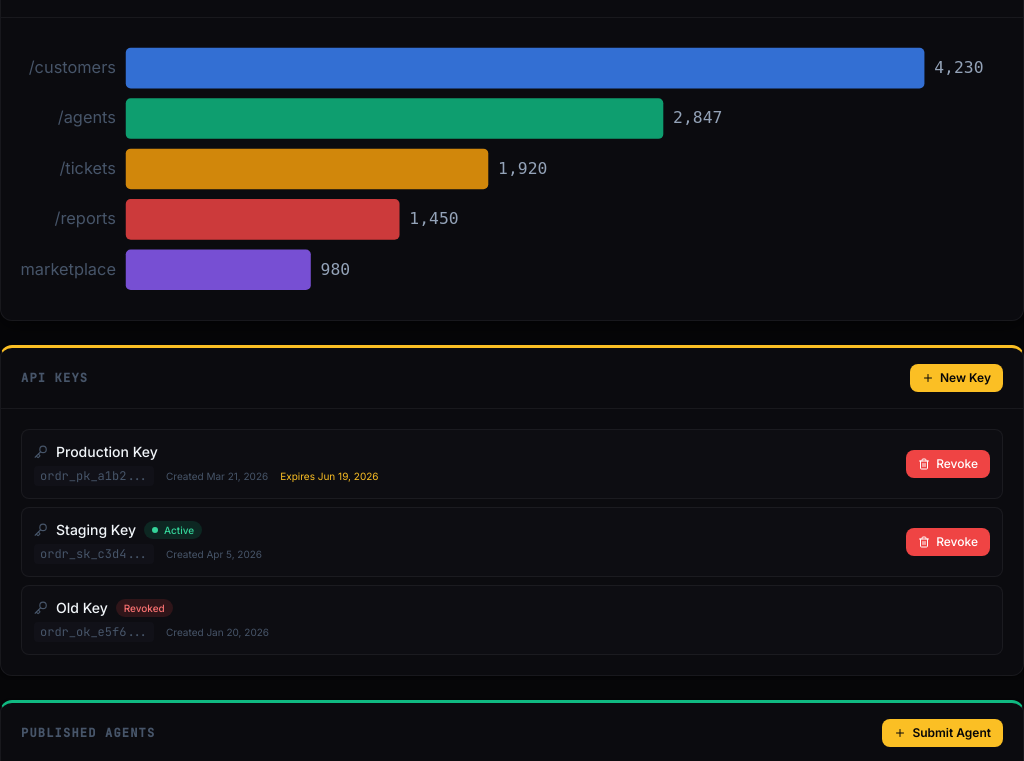
DeveloperConsole › create key shows raw key once
(page scrolled)
Click the button "New Key": click(956, 378) x1=910 y1=364 x2=1003 y2=392
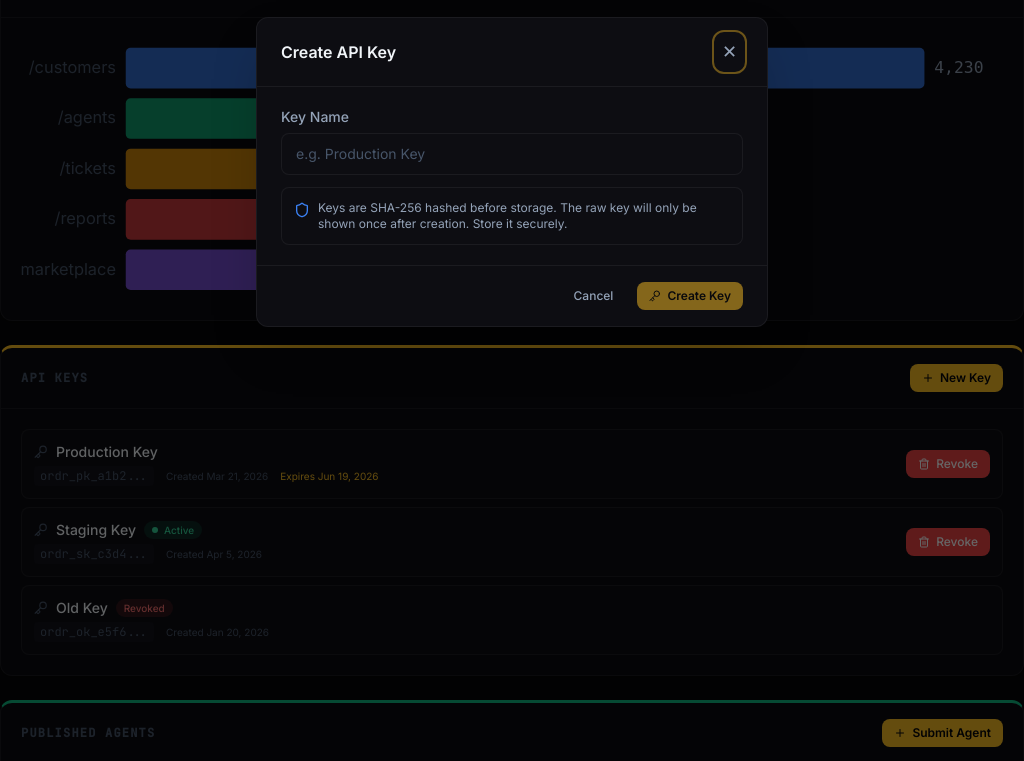
In the field with placeholder "e.g. Production Key": (512, 154) x1=281 y1=133 x2=743 y2=175, type "Test Key"
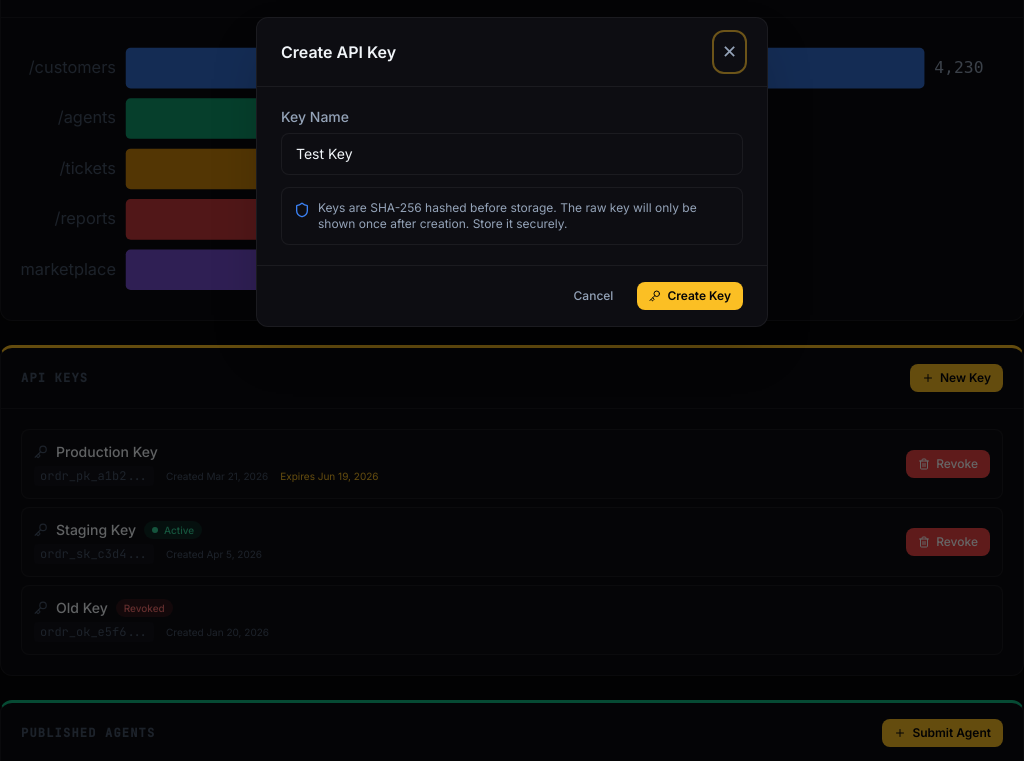
Click the button "Create Key": click(690, 296) x1=637 y1=282 x2=743 y2=310
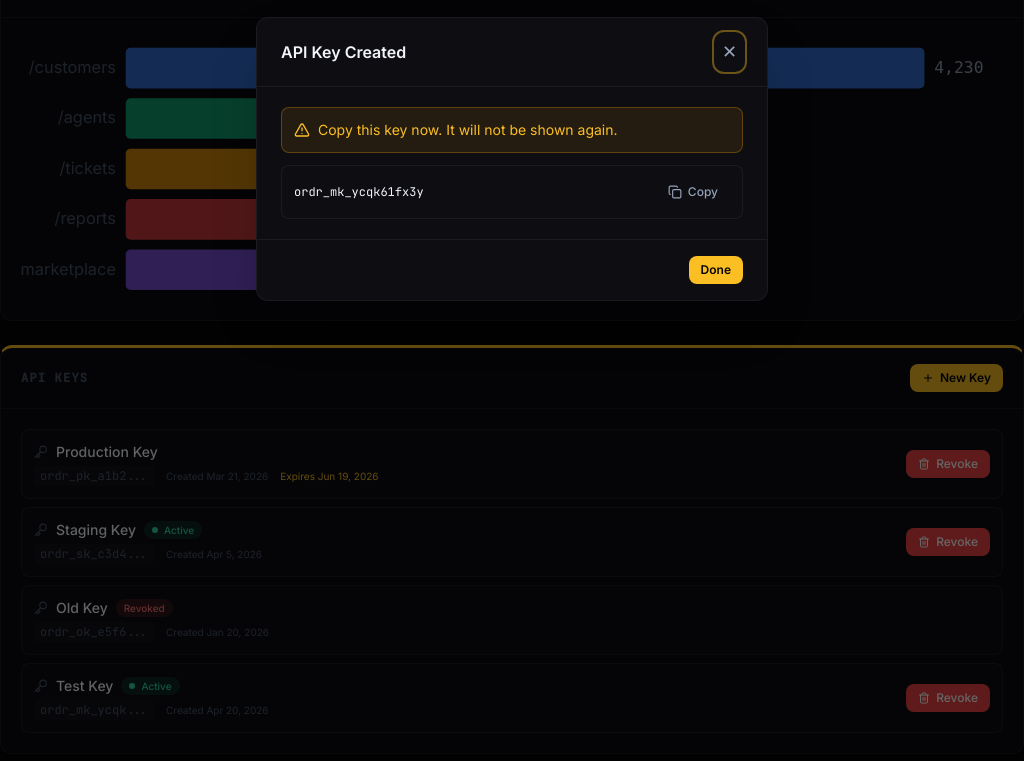
Result: the text "Copy this key now. It will not be shown again." is shown at x1=318 y1=120 x2=618 y2=140
